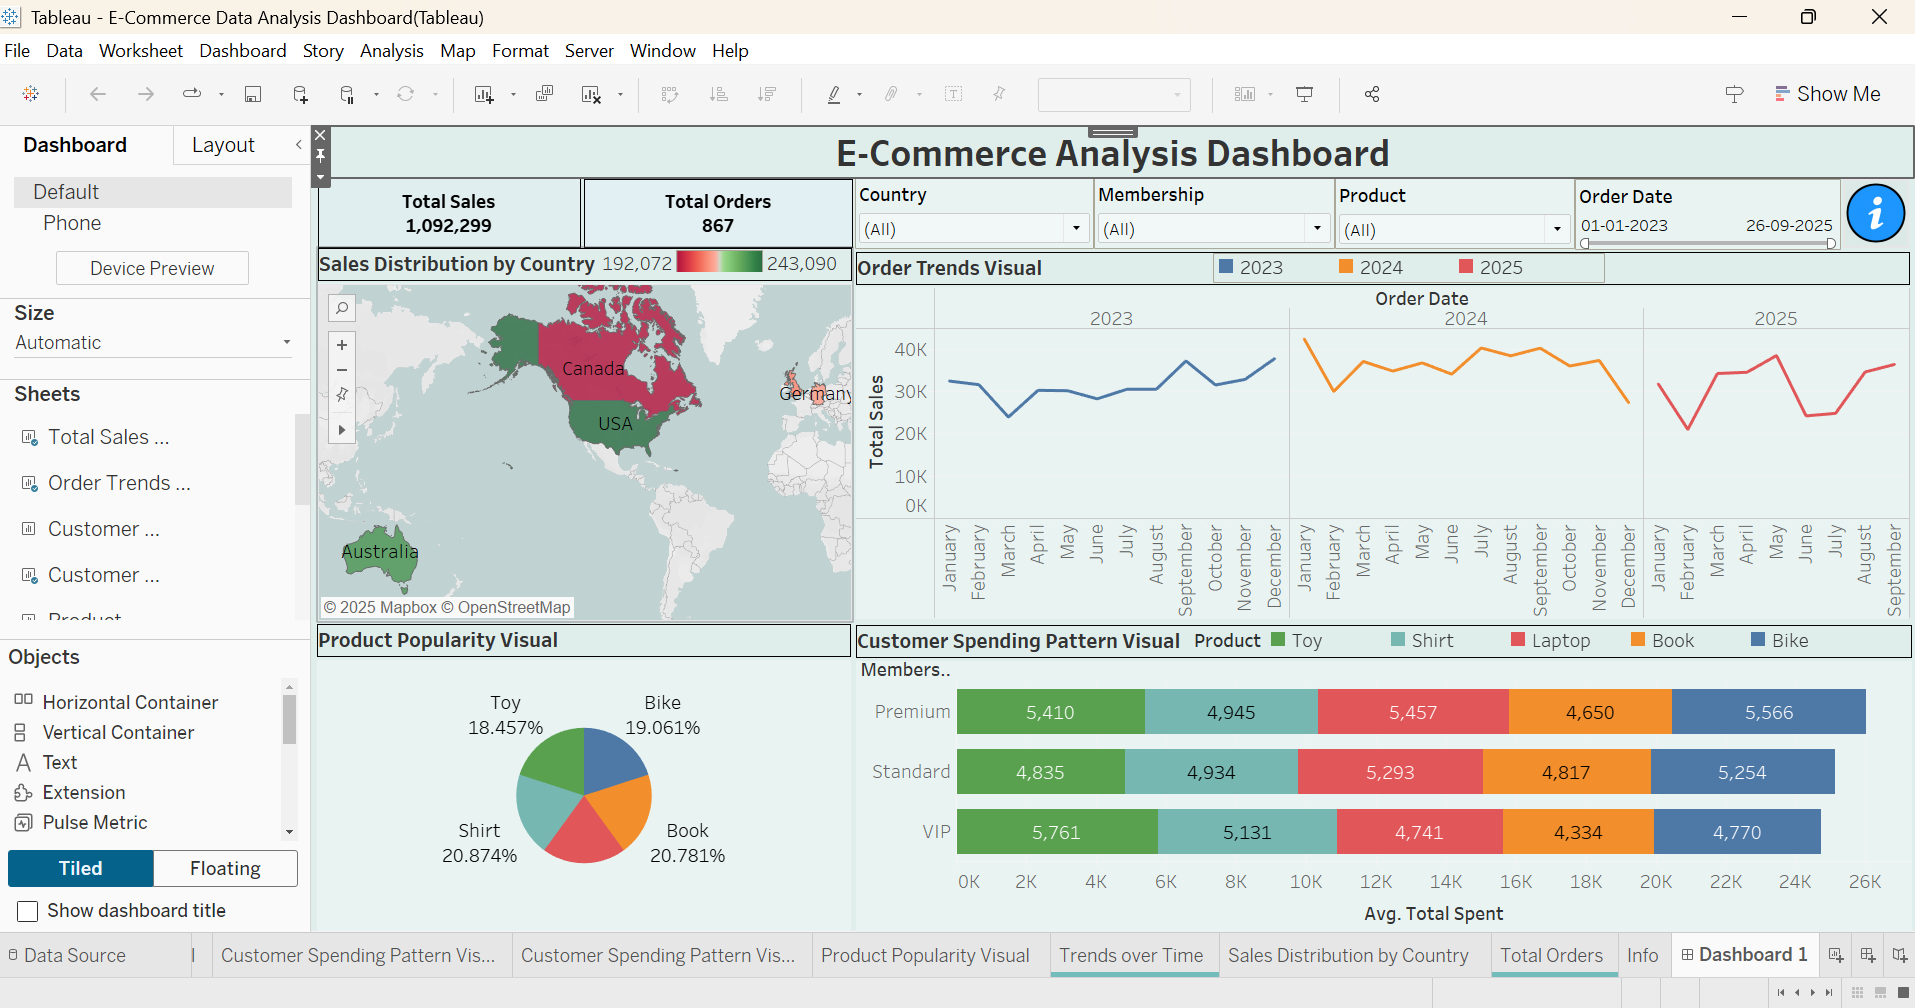

The dashboard page shown, as its layout file describes it:
{"tool":"tableau","page":{"name":"Dashboard 1","canvas":[1000,1000],"units":"permille","ordinal":0},"visuals":[{"type":"title","box":[0,0,1000,64.5]},{"type":"filter","title":"Order Trends Visual","param":"[federated.0dpkiez0gu8oag173mxgf1rve2hg].[none:Country:nk]","box":[339.2,64.5,149,89.3]},{"type":"filter","title":"Order Trends Visual","param":"[federated.0dpkiez0gu8oag173mxgf1rve2hg].[none:Membership:nk]","box":[488.2,64.5,150.2,89.3]},{"type":"worksheet","title":"Total Sales Visual","mark":"Square","box":[4.4,65.8,164,86.9]},{"type":"filter","title":"Order Trends Visual","param":"[federated.0dpkiez0gu8oag173mxgf1rve2hg].[none:Product:nk]","box":[638.4,65.8,149.6,88.1]},{"type":"worksheet","title":"Info","mark":"Shape","box":[954.5,65.8,41.8,86.9]},{"type":"worksheet","title":"Total Orders","mark":"Square","box":[170.2,67,167.7,85.6]},{"type":"filter","title":"Order Trends Visual","param":"[federated.0dpkiez0gu8oag173mxgf1rve2hg].[none:OrderDate:qk]","box":[788,67,165.8,88.1]},{"type":"legend","title":"Sales Distribution by Country","param":"[federated.0dpkiez0gu8oag173mxgf1rve2hg].[usr:Calculation_533395145802899456:qk]","box":[178.9,150.1,152.1,32.3]},{"type":"worksheet","title":"Sales Distribution by Country","mark":"Automatic","box":[4.4,152.6,332.9,462.8]},{"type":"worksheet","title":"Order Trends Visual","mark":"Automatic","rows":["Calculation_533395145802899456"],"cols":["OrderDate","OrderDate"],"box":[339.8,157.6,657.1,455.3]},{"type":"legend","title":"Order Trends Visual","param":"[federated.0dpkiez0gu8oag173mxgf1rve2hg].[yr:OrderDate:ok]","box":[562.3,158.8,244.4,37.2]},{"type":"worksheet","title":"Product Popularity Visual","mark":"Pie","box":[3.7,619.1,333.1,380.9]},{"type":"worksheet","title":"Customer Spending Pattern Visual (2)","mark":"Automatic","rows":["Membership"],"cols":["TotalSpent"],"box":[339.8,620.4,658.4,380.9]},{"type":"legend","title":"Customer Spending Pattern Visual (2)","param":"[federated.0dpkiez0gu8oag173mxgf1rve2hg].[none:Product:nk]","box":[550.5,622.8,433.9,38.5]}]}

Visuals, with their boxes on the dashboard's canvas, which has no fixed pixel size, in thousandths of its width and height (x1, y1, x2, y2). These are canvas units, not pixel positions in the 1915x1008 screenshot, which may show the page scaled, cropped or inside an application window:
title: [left=0, top=0, right=1000, bottom=64]
"Order Trends Visual" filter: [left=339, top=64, right=488, bottom=154]
"Order Trends Visual" filter: [left=488, top=64, right=638, bottom=154]
"Total Sales Visual" worksheet (Square marks): [left=4, top=66, right=168, bottom=153]
"Order Trends Visual" filter: [left=638, top=66, right=788, bottom=154]
"Info" worksheet (Shape marks): [left=954, top=66, right=996, bottom=153]
"Total Orders" worksheet (Square marks): [left=170, top=67, right=338, bottom=153]
"Order Trends Visual" filter: [left=788, top=67, right=954, bottom=155]
"Sales Distribution by Country" legend: [left=179, top=150, right=331, bottom=182]
"Sales Distribution by Country" worksheet: [left=4, top=153, right=337, bottom=615]
"Order Trends Visual" worksheet: [left=340, top=158, right=997, bottom=613]
"Order Trends Visual" legend: [left=562, top=159, right=807, bottom=196]
"Product Popularity Visual" worksheet (Pie marks): [left=4, top=619, right=337, bottom=1000]
"Customer Spending Pattern Visual (2)" worksheet: [left=340, top=620, right=998, bottom=1001]
"Customer Spending Pattern Visual (2)" legend: [left=550, top=623, right=984, bottom=661]
